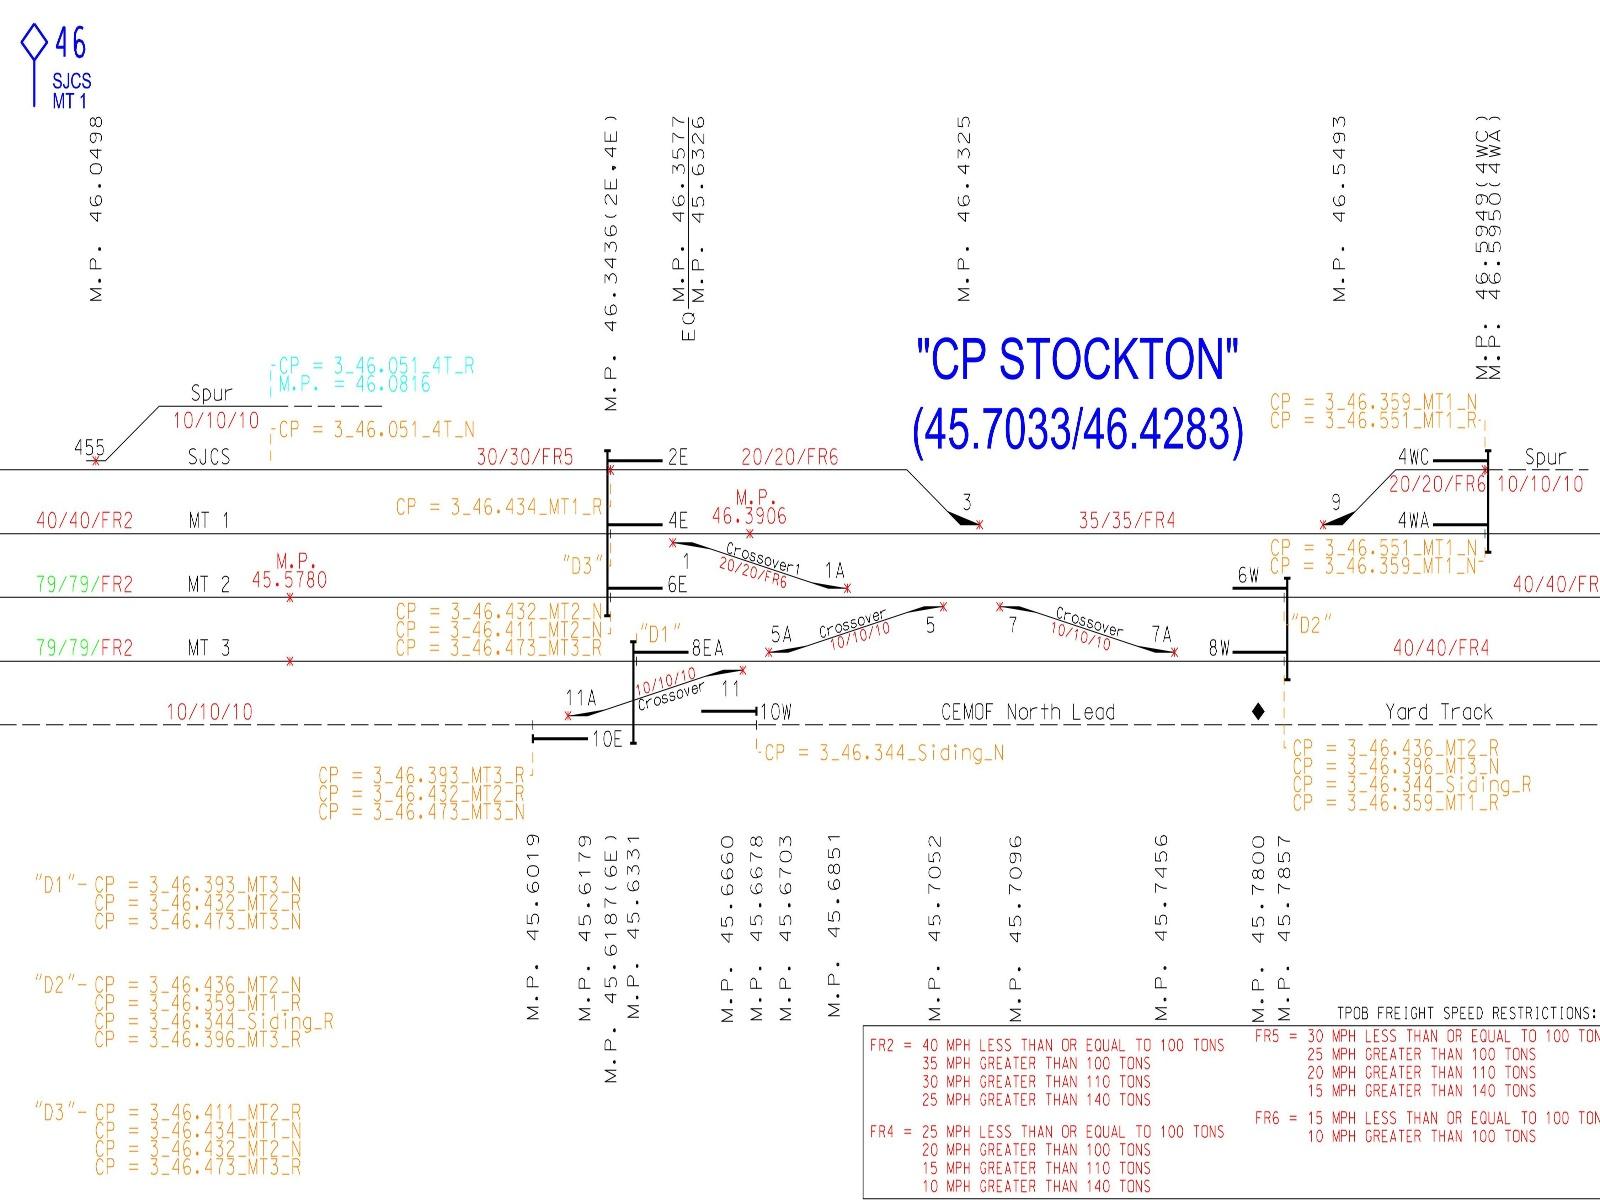leftSignal: (1393, 504, 1494, 543), (1209, 563, 1310, 603), (1398, 441, 1498, 480), (1202, 630, 1301, 669)
milepost: (483, 829, 559, 1029), (695, 829, 772, 1029), (1230, 824, 1305, 1026), (774, 829, 849, 1030), (889, 823, 965, 1024), (1304, 110, 1380, 309), (973, 824, 1047, 1026), (1123, 823, 1197, 1024), (72, 111, 142, 308), (931, 112, 1002, 308)
rightSignal: (600, 444, 695, 479), (598, 568, 694, 604), (629, 625, 724, 661), (533, 722, 627, 758), (697, 700, 797, 732), (600, 505, 695, 539)
switch: (939, 487, 994, 543), (1310, 488, 1364, 545), (1133, 618, 1188, 666), (906, 592, 961, 639), (808, 557, 862, 604), (753, 621, 808, 668), (981, 592, 1036, 639), (559, 676, 614, 722), (703, 655, 750, 703), (656, 534, 703, 574)
